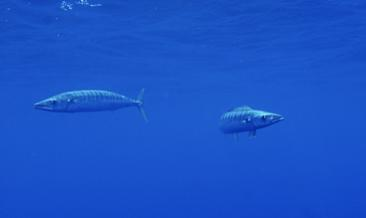Scombridae -Tunas-: (27, 82, 151, 123), (217, 102, 288, 141)
